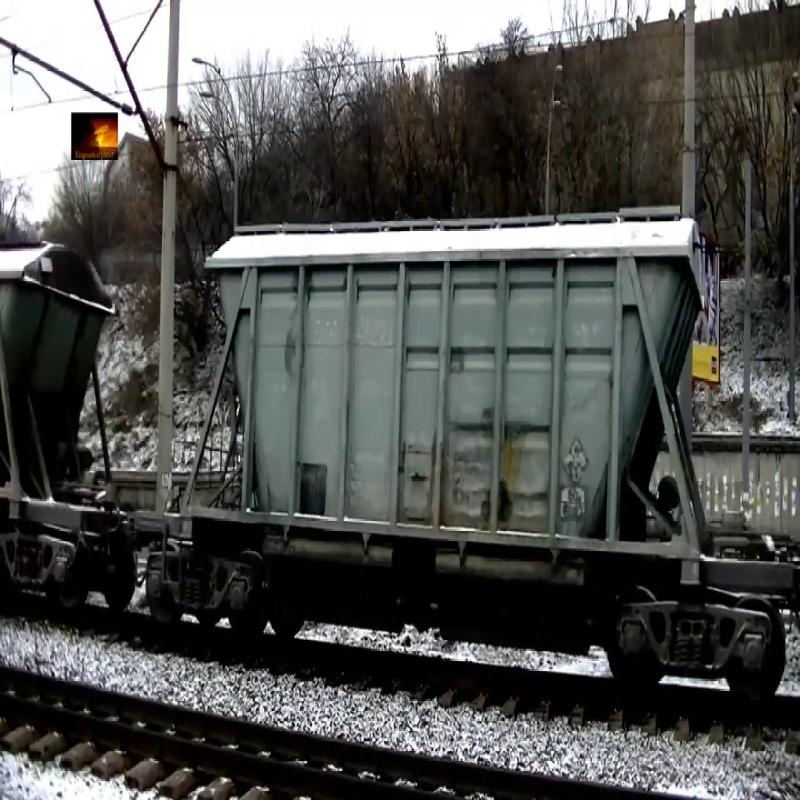train: (175, 207, 712, 598), (1, 233, 120, 579)
